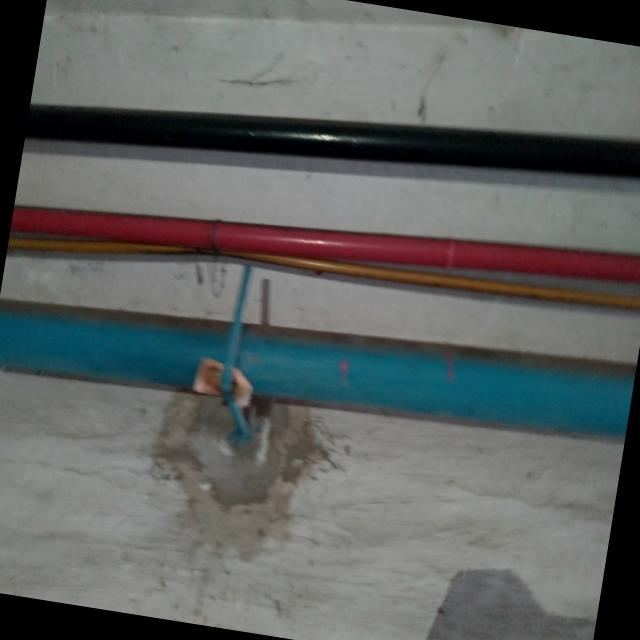gas: (0, 301, 627, 440), (25, 100, 640, 176), (10, 206, 640, 280)
